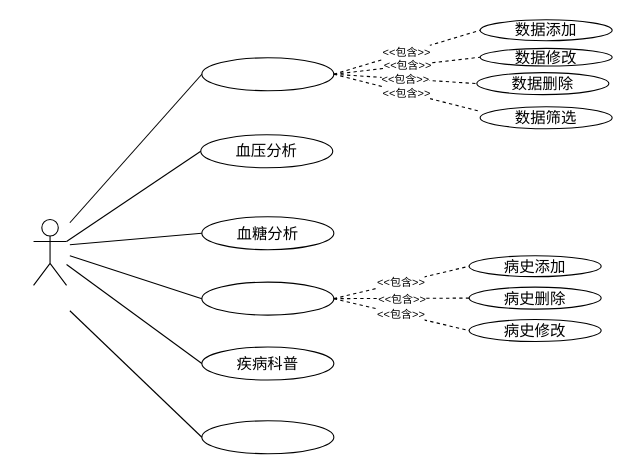
Some shapes in this 631 by 473 pixel diagram are drawn without their labels. The centre of each missing label's shape, as x and y in pixels:
健康教育: the point at 267,437
数据记录: the point at 267,74
普通用户: the point at 49,251
过往病史: the point at 267,298
